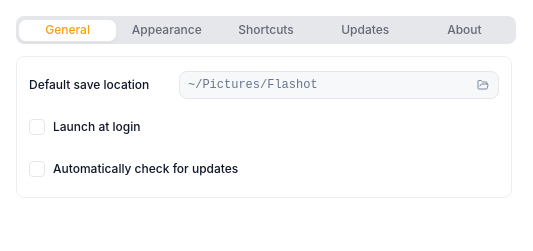
Test: SettingsRoute › fills appearance defaults when loading legacy settings
Click the tab "Shortcuts" at (266, 30), box [216,18,316,42]
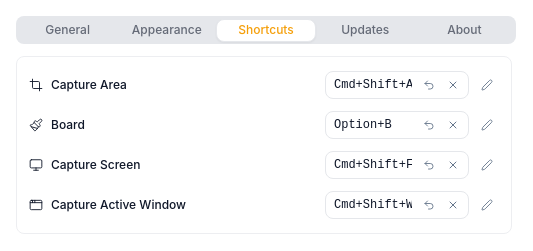
Check: the text "Capture Area" is shown, box [51,77,127,93]
Click the tab "Appearance" at (167, 30), box [117,18,216,42]
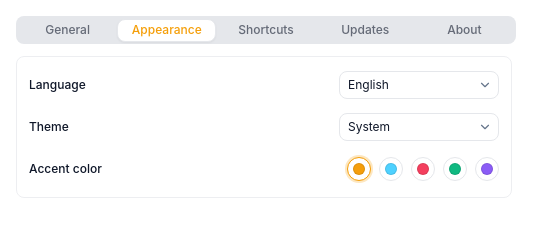
Check: the label "save" is not shown
Check: the button named "Accent color: Cyan" is shown, box [379,157,403,181]
